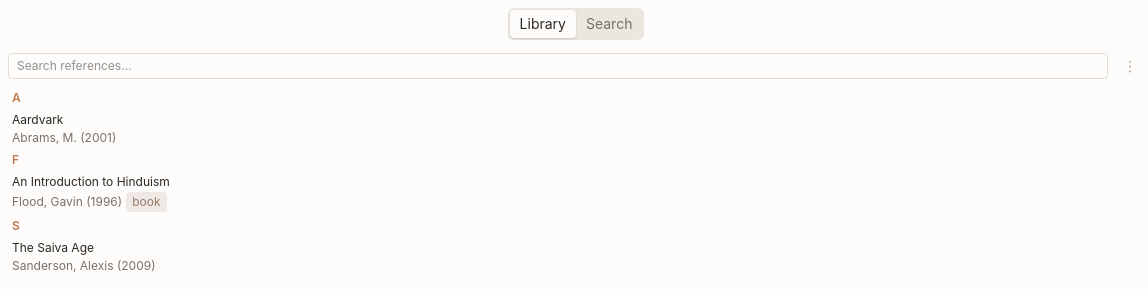
Test case: ReferenceLibrary › search filters across title
Expected: the text "The Saiva Age" is shown, [12,240,94,255]
Type "Hinduism" into the field labelled "Search references". click: (558,66)
box: [8,53,1108,79]
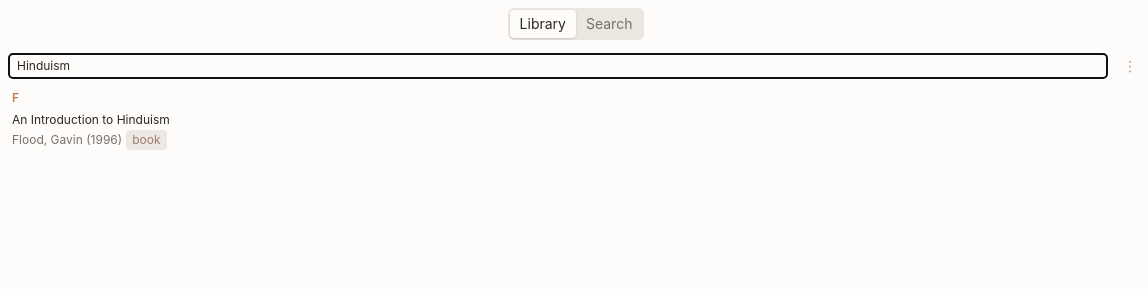
Expected: the text "An Introduction to Hinduism" is shown, [12,112,170,127]
Now the button "The Saiva Age" is gone
